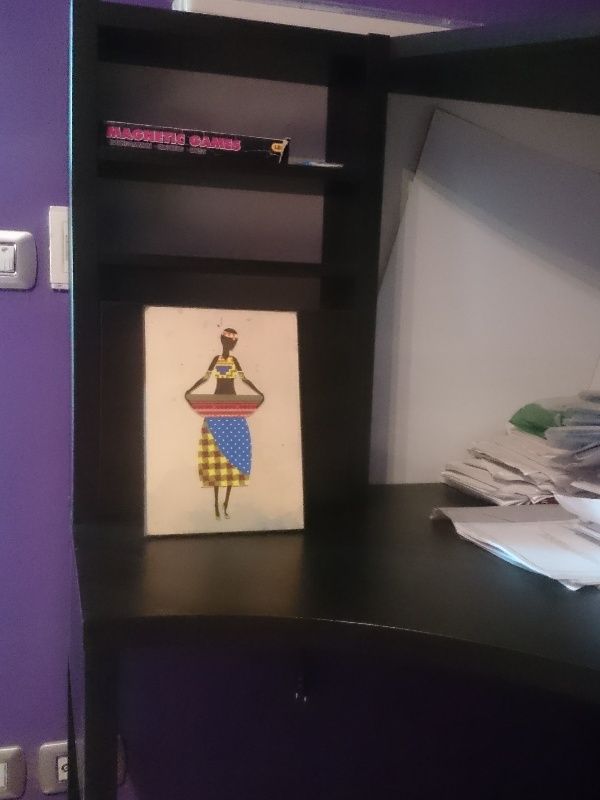my image: (141, 306, 301, 535)
